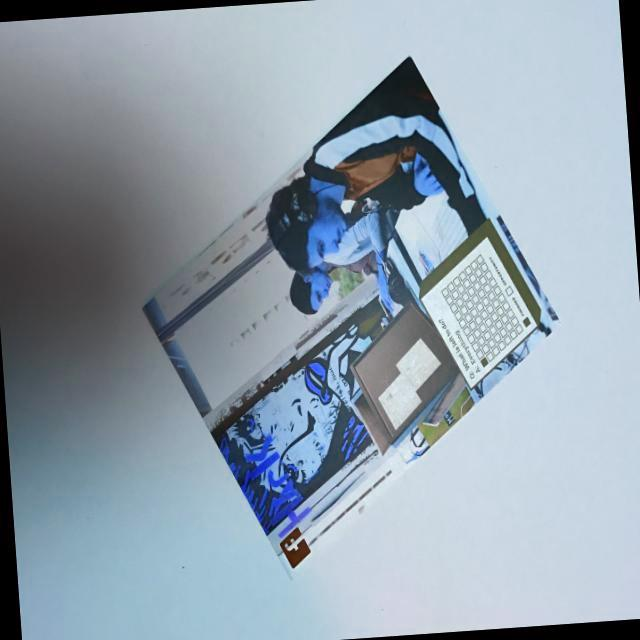paper: (106, 41, 587, 618)
